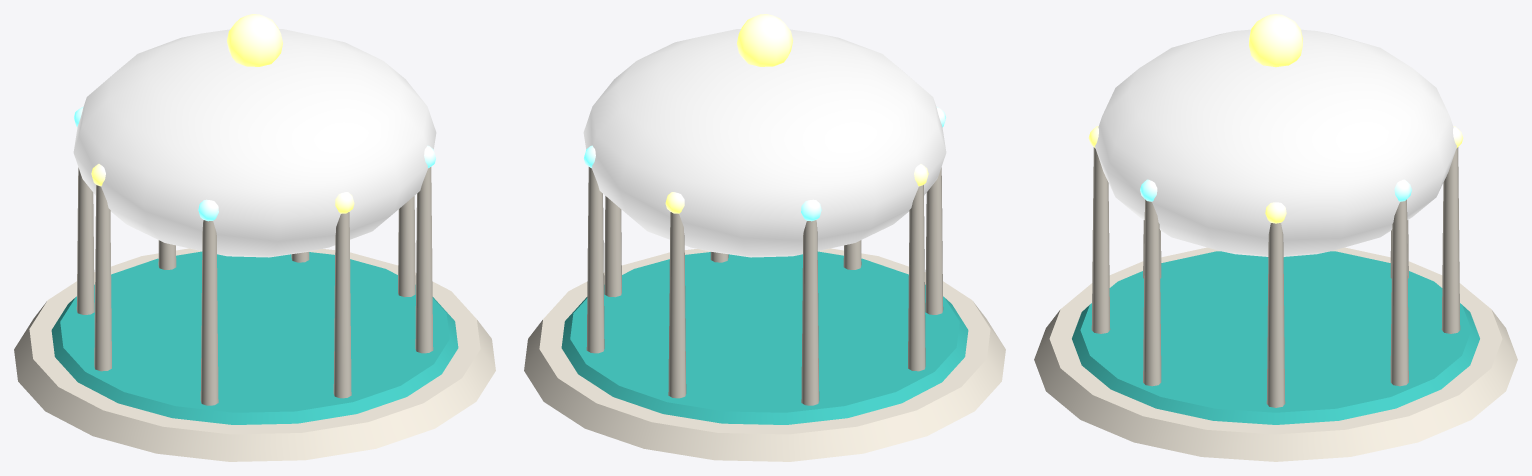
Rendered from light-pavilion.glb.
3 renders of one model, left to right at view 1: azimuth 30°, elevation 25°; view 2: azimuth 150°, elevation 25°; view 3: azimuth 270°, elevation 25°, orthographic.
Visible parts, largest first — view 1: Mesh_ffffff, Mesh_turquoise, Mesh_warmWhite, Mesh_glowWarm (×2), Mesh_glowCyan; view 2: Mesh_ffffff, Mesh_turquoise, Mesh_warmWhite, Mesh_glowWarm (×2), Mesh_glowCyan; view 3: Mesh_ffffff, Mesh_turquoise, Mesh_warmWhite, Mesh_glowWarm (×2), Mesh_glowCyan.
Boxes of the visible parts, x1=… form: Mesh_ffffff: x1=73, y1=29, x2=436, y2=257; Mesh_turquoise: x1=51, y1=251, x2=458, y2=424; Mesh_warmWhite: x1=14, y1=167, x2=495, y2=461; Mesh_glowWarm (×2): x1=91, y1=14, x2=354, y2=213; Mesh_glowCyan: x1=74, y1=106, x2=435, y2=221; Mesh_ffffff: x1=583, y1=29, x2=946, y2=257; Mesh_turquoise: x1=561, y1=251, x2=968, y2=424; Mesh_warmWhite: x1=524, y1=167, x2=1005, y2=461; Mesh_glowWarm (×2): x1=665, y1=14, x2=928, y2=213; Mesh_glowCyan: x1=584, y1=106, x2=945, y2=221; Mesh_ffffff: x1=1095, y1=29, x2=1456, y2=256; Mesh_turquoise: x1=1072, y1=251, x2=1479, y2=424; Mesh_warmWhite: x1=1034, y1=147, x2=1517, y2=461; Mesh_glowWarm (×2): x1=1088, y1=14, x2=1463, y2=223; Mesh_glowCyan: x1=1140, y1=179, x2=1411, y2=201.
Size of the model in its own units: 9.4 by 7.35 by 9.4.
